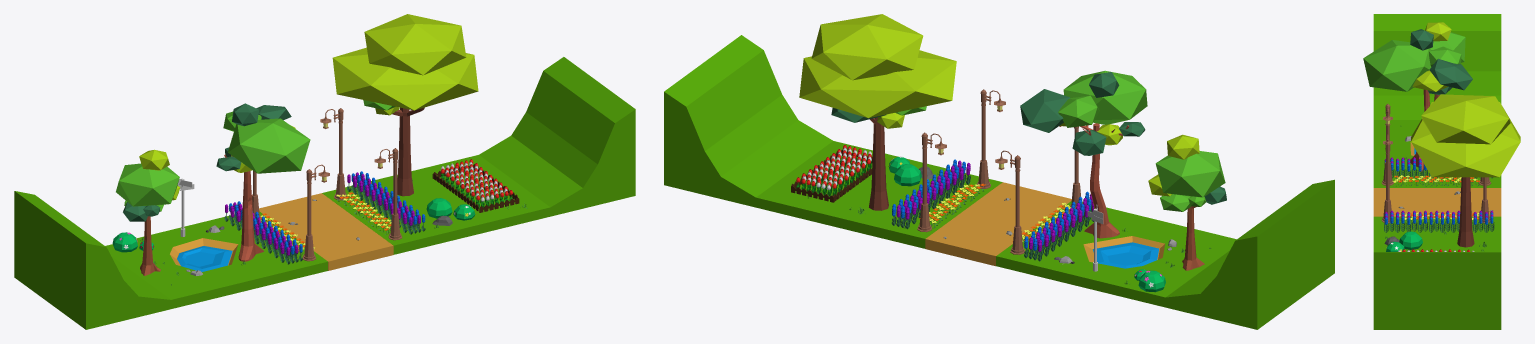
File: road3.fbx
3 views of the same model, side by side, from view 1: azimuth 30°, elevation 25°; view 2: azimuth 150°, elevation 25°; view 3: azimuth 270°, elevation 25° (orthographic). The views are drawn at different scales.
Parts seen in each view (by area): view 1: Icosphere.007; view 2: Icosphere.007; view 3: Icosphere.007.
Part boxes in pixels (<box>): Icosphere.007: <box>14,14,635,329</box>; Icosphere.007: <box>664,14,1334,329</box>; Icosphere.007: <box>1363,14,1520,329</box>.
Bounding box in the file's own units: 16759 × 5105 × 4674.
